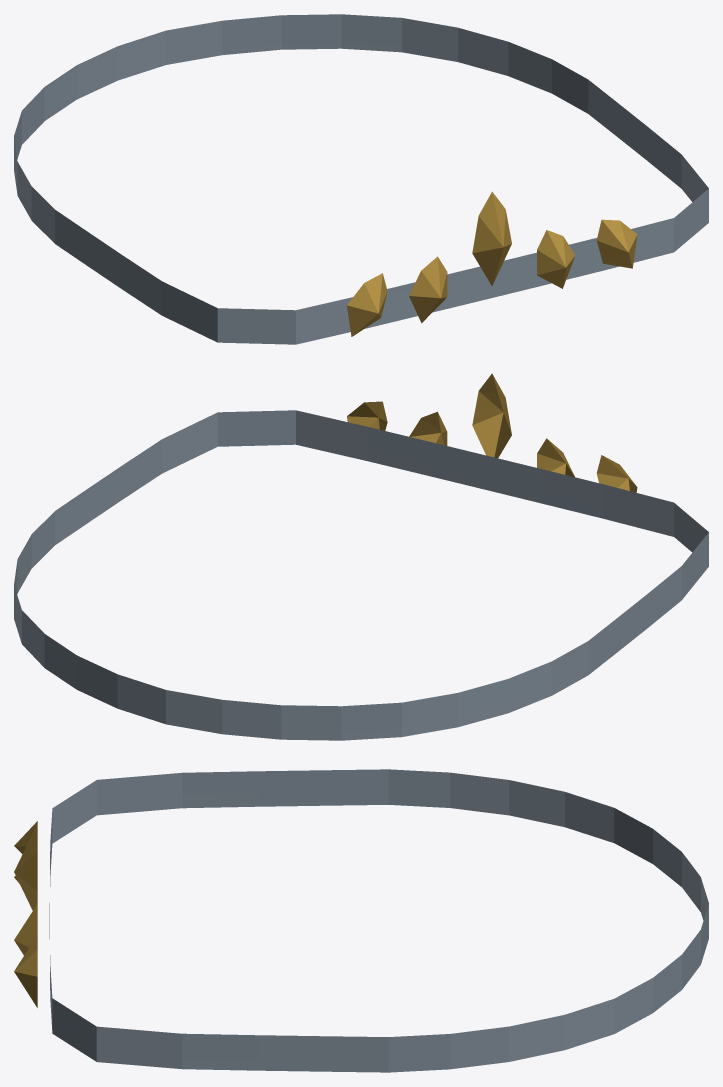
The model's file is elfo_diadema_2.glb.
The picture shows the model from 3 angles, top to bottom: view 1: azimuth 30°, elevation 25°; view 2: azimuth 150°, elevation 25°; view 3: azimuth 270°, elevation 25°; orthographic projection. The views are drawn at different scales.
Visible parts, largest first — view 1: elfo_diadema_2; view 2: elfo_diadema_2; view 3: elfo_diadema_2.
Part boxes in pixels (x1,y1,x2,y2): elfo_diadema_2: (14,14,708,344); elfo_diadema_2: (14,373,708,740); elfo_diadema_2: (14,769,708,1072).
Size of the model in its own units: 0.9384 by 0.1931 by 1.03.
1 material, 1 textured.
